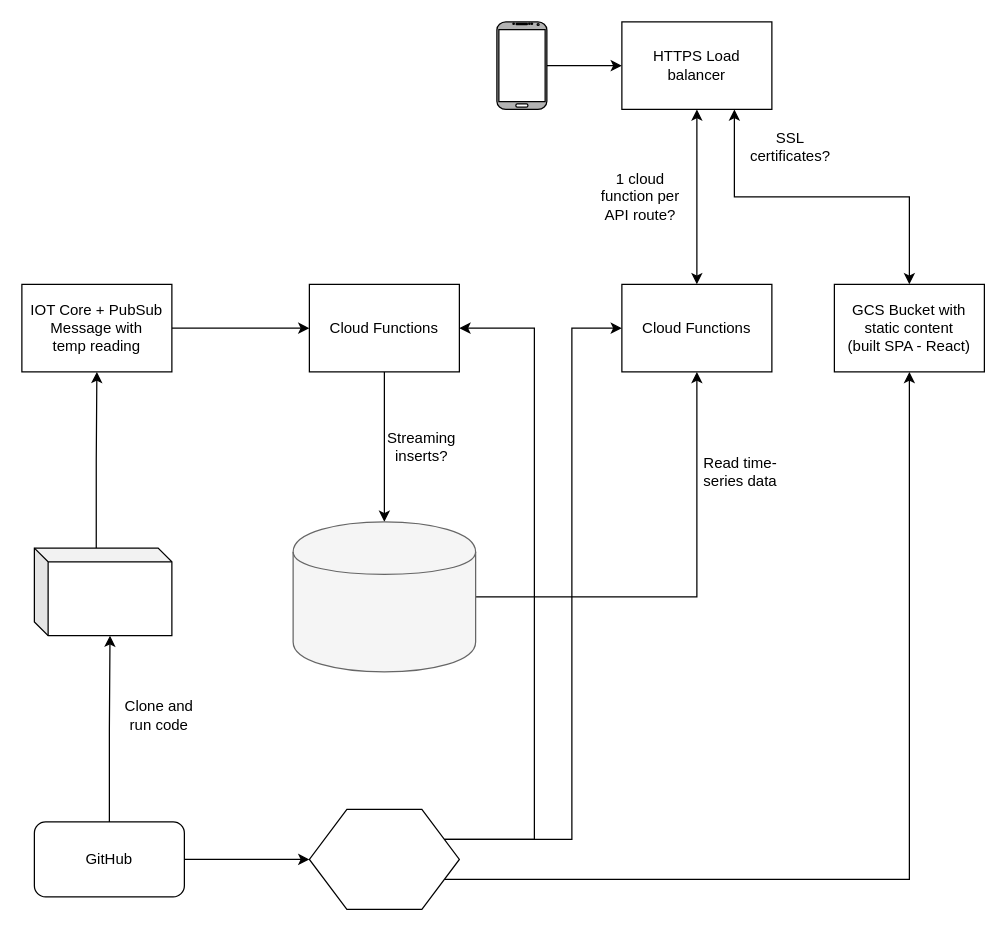
The diagram is 1006 pixels wide and 931 high, and some of its shapes have lost their labels. Each missing label, with the centre of its shape:
"BigQuery" goes at (384,596).
"CI/CD" goes at (383,858).
"RaspberryPi with Temp senspor" goes at (102,591).
